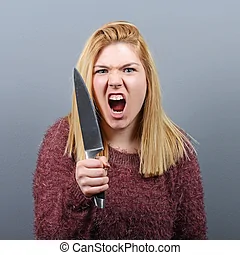knife: (61, 62, 108, 211)
